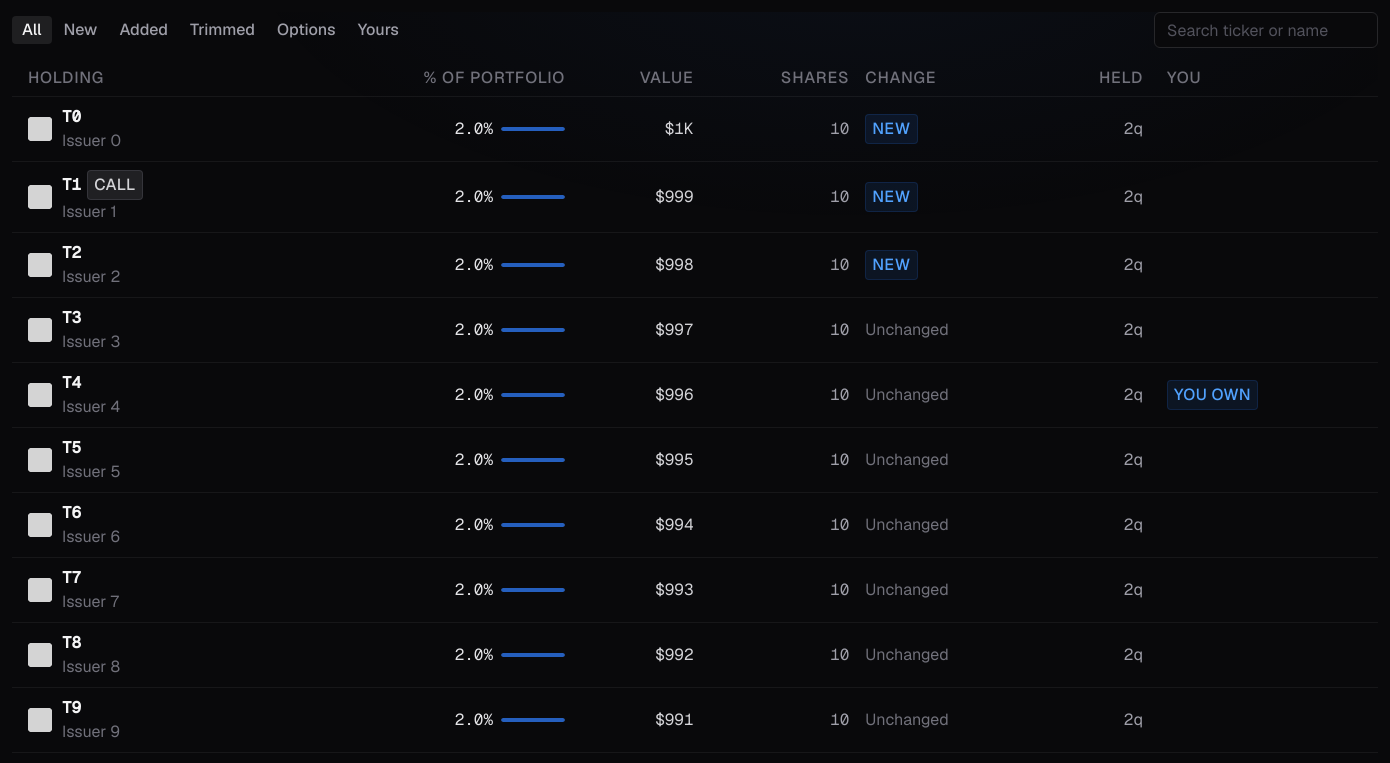
Test: HoldingsTab › explains an empty filter
The image size is (1390, 763).
Type "zzz" into the search field named "Search holdings". click: (1266, 30)
box: [1154, 12, 1378, 48]
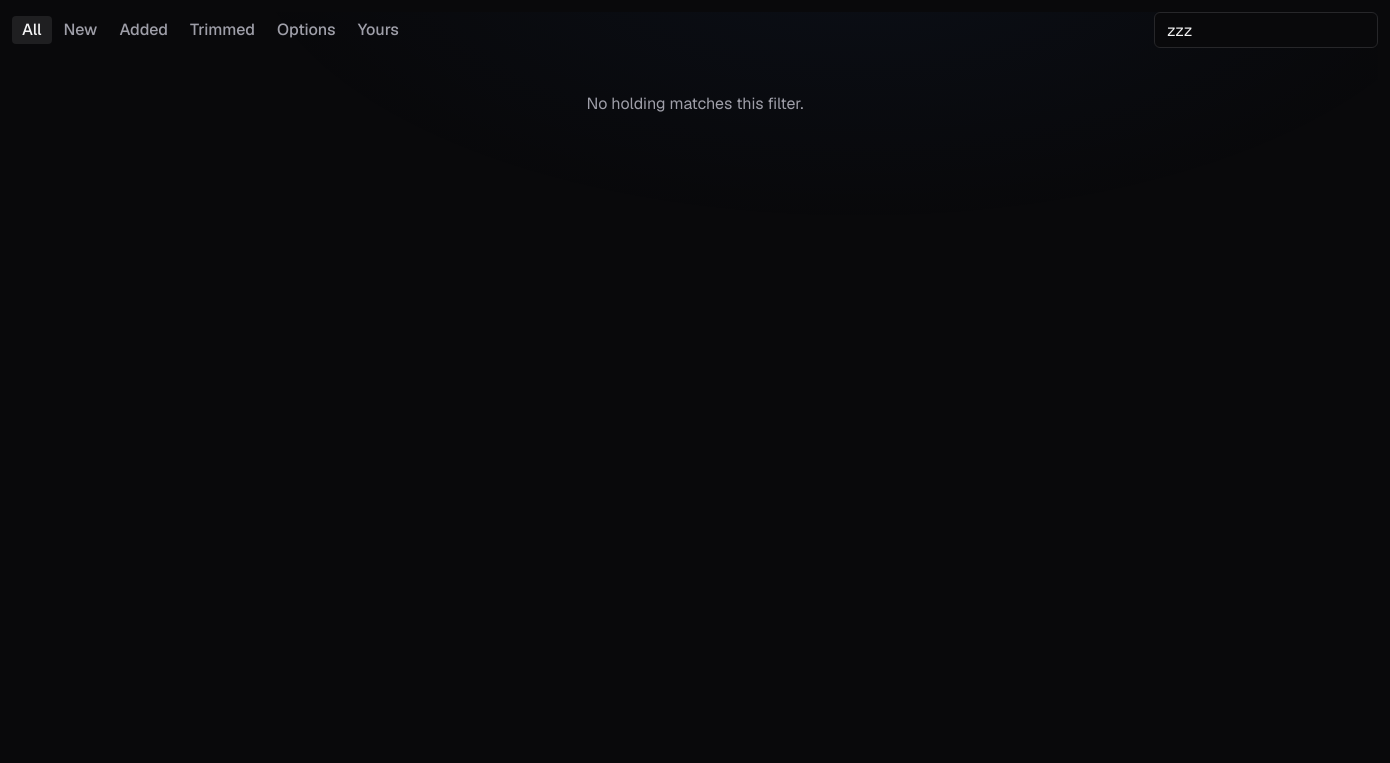
Expected: the text "No holding matches this filter." is shown, [586, 93, 804, 114]
